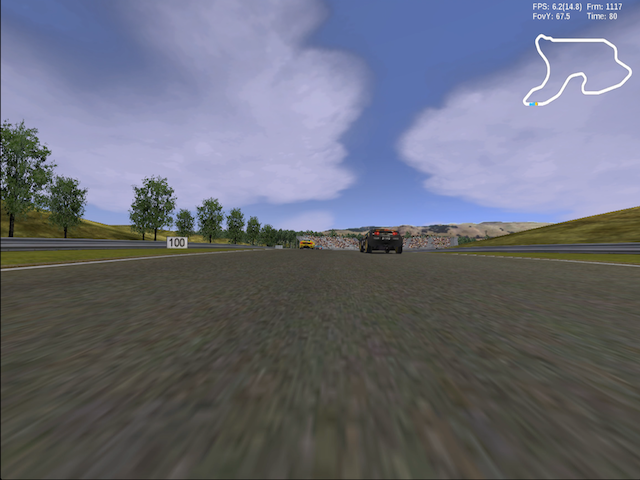Cavallo360: (299, 241, 315, 250)
Spirit300: (359, 228, 403, 254)
